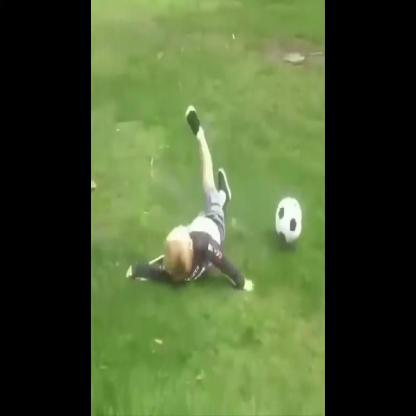Fall_Down: (123, 106, 256, 292)
